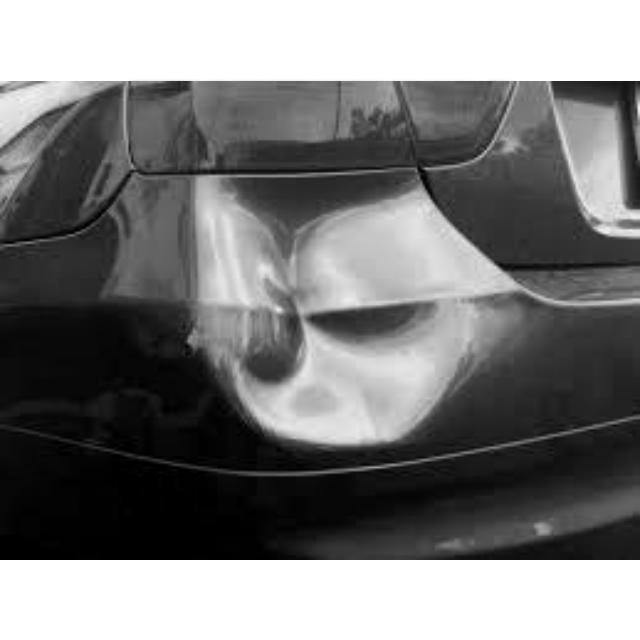rear-bumper-dent: (65, 148, 596, 523)
